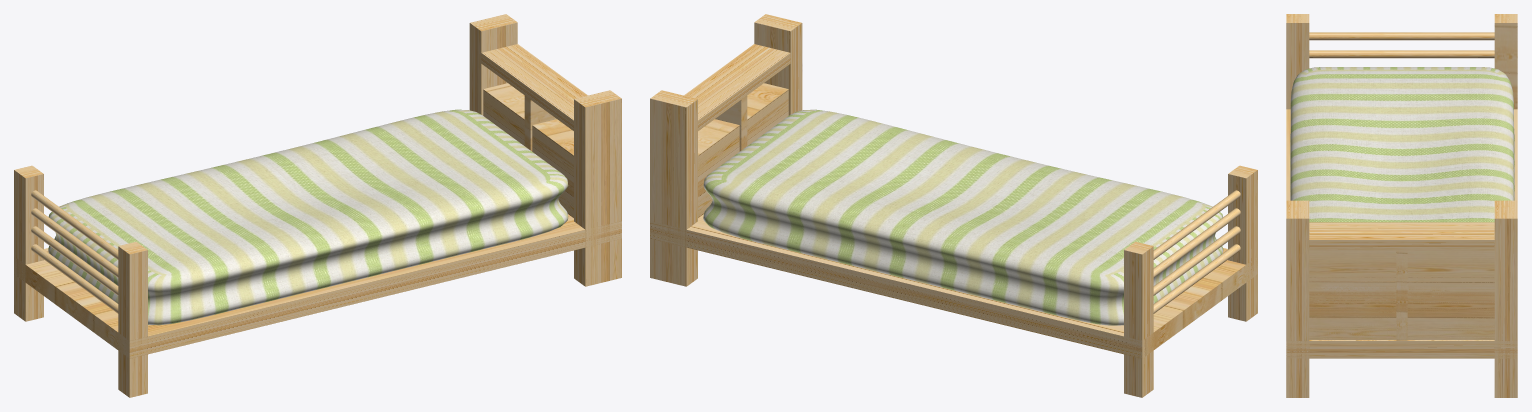
The model's file is IVRC Bed.obj.
3 renders of one model, left to right at view 1: azimuth 30°, elevation 25°; view 2: azimuth 150°, elevation 25°; view 3: azimuth 270°, elevation 25°, orthographic.
Parts seen in each view (by area): view 1: kussyon bed, bed pCube14, bed pCube15, bed pCube18, bed pCube24, bed pCube21, bed pCube19, bed pCube20, bed pCylinder4, bed pCylinder1, bed pCylinder2, bed pCylinder3 (+1 smaller); view 2: kussyon bed, bed pCube14, bed pCube20, bed pCube19, bed pCube24, bed pCube21, bed pCube18, bed pCube15, bed pCylinder4, bed pCylinder1, bed pCylinder2, bed pCylinder3 (+1 smaller); view 3: kussyon bed, bed pCube22, bed pCube21, bed pCube14, bed pCube20, bed pCube15, bed pCube24, bed pCylinder3, bed pCylinder4, bed pCube18, bed pCube19, bed pCube23.
Boxes of the visible parts, x1=… form: kussyon bed: x1=48, y1=109, x2=568, y2=325; bed pCube14: x1=14, y1=214, x2=621, y2=358; bed pCube15: x1=574, y1=90, x2=621, y2=286; bed pCube18: x1=118, y1=241, x2=147, y2=397; bed pCube24: x1=483, y1=83, x2=573, y2=217; bed pCube21: x1=481, y1=44, x2=587, y2=130; bed pCube19: x1=14, y1=165, x2=43, y2=321; bed pCube20: x1=469, y1=14, x2=517, y2=115; bed pCylinder4: x1=31, y1=190, x2=118, y2=259; bed pCylinder1: x1=31, y1=244, x2=118, y2=313; bed pCylinder2: x1=31, y1=226, x2=118, y2=295; bed pCylinder3: x1=31, y1=208, x2=118, y2=277; kussyon bed: x1=703, y1=109, x2=1223, y2=325; bed pCube14: x1=650, y1=214, x2=1257, y2=358; bed pCube20: x1=650, y1=90, x2=697, y2=286; bed pCube19: x1=1124, y1=241, x2=1153, y2=397; bed pCube24: x1=698, y1=83, x2=788, y2=217; bed pCube21: x1=684, y1=44, x2=790, y2=130; bed pCube18: x1=1228, y1=165, x2=1257, y2=321; bed pCube15: x1=754, y1=14, x2=802, y2=115; bed pCylinder4: x1=1153, y1=190, x2=1240, y2=259; bed pCylinder1: x1=1153, y1=244, x2=1240, y2=313; bed pCylinder2: x1=1153, y1=226, x2=1240, y2=295; bed pCylinder3: x1=1153, y1=208, x2=1240, y2=277; kussyon bed: x1=1290, y1=67, x2=1514, y2=222; bed pCube22: x1=1309, y1=250, x2=1494, y2=339; bed pCube21: x1=1309, y1=222, x2=1494, y2=250; bed pCube14: x1=1286, y1=109, x2=1517, y2=358; bed pCube20: x1=1494, y1=200, x2=1517, y2=397; bed pCube15: x1=1286, y1=200, x2=1309, y2=397; bed pCube24: x1=1309, y1=276, x2=1494, y2=338; bed pCylinder3: x1=1309, y1=50, x2=1494, y2=58; bed pCylinder4: x1=1309, y1=32, x2=1494, y2=40; bed pCube18: x1=1286, y1=14, x2=1309, y2=109; bed pCube19: x1=1494, y1=14, x2=1517, y2=109; bed pCube23: x1=1396, y1=250, x2=1407, y2=340.
Bounding box in the file's own units: 13.37 × 4.65 × 5.44.
Materials: 2 (2 with a texture image).
